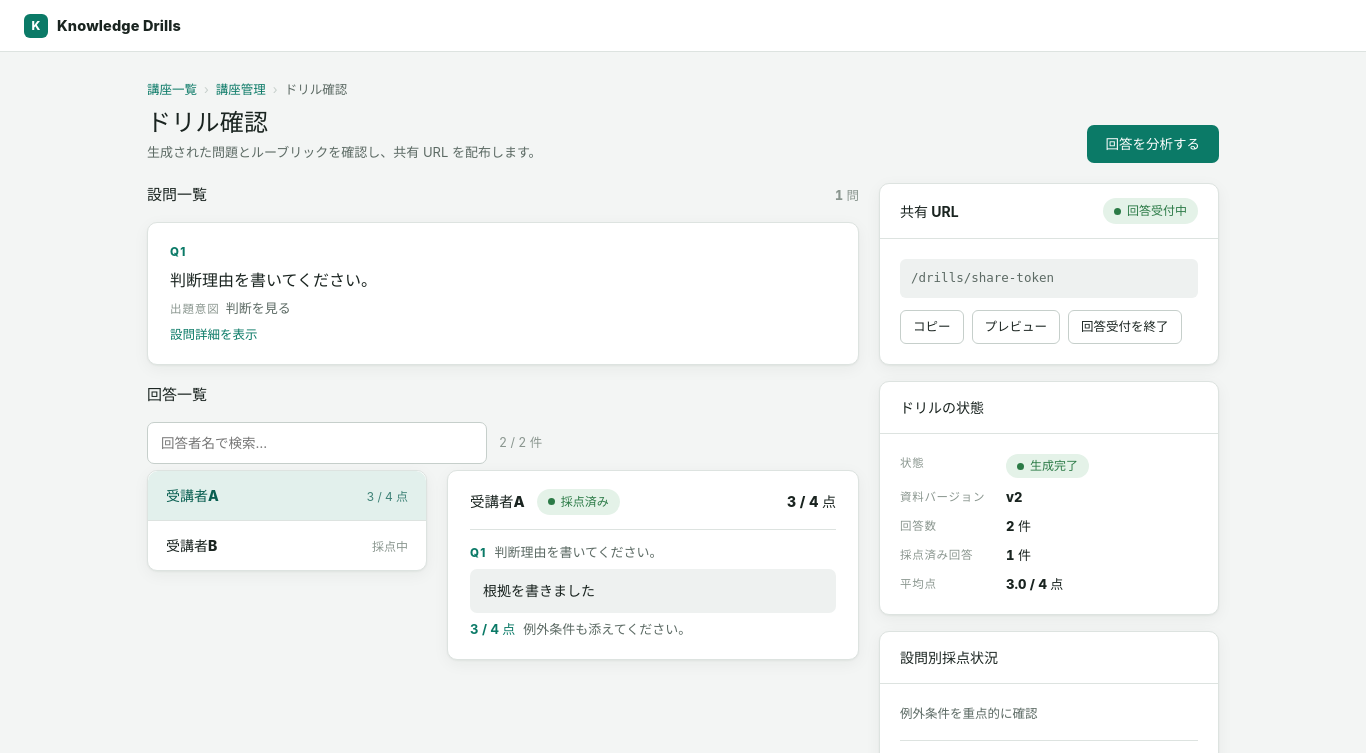
Test: DrillAdminPage › shows an error banner and stops polling when analysis fails
The width and height of the screenshot is (1366, 753).
Expected: the text "/drills/share-token" is shown, [900,259,1198,298]
Click the button "回答を分析する": (1153, 144) [1086,125,1219,163]
Wait 3000 ms
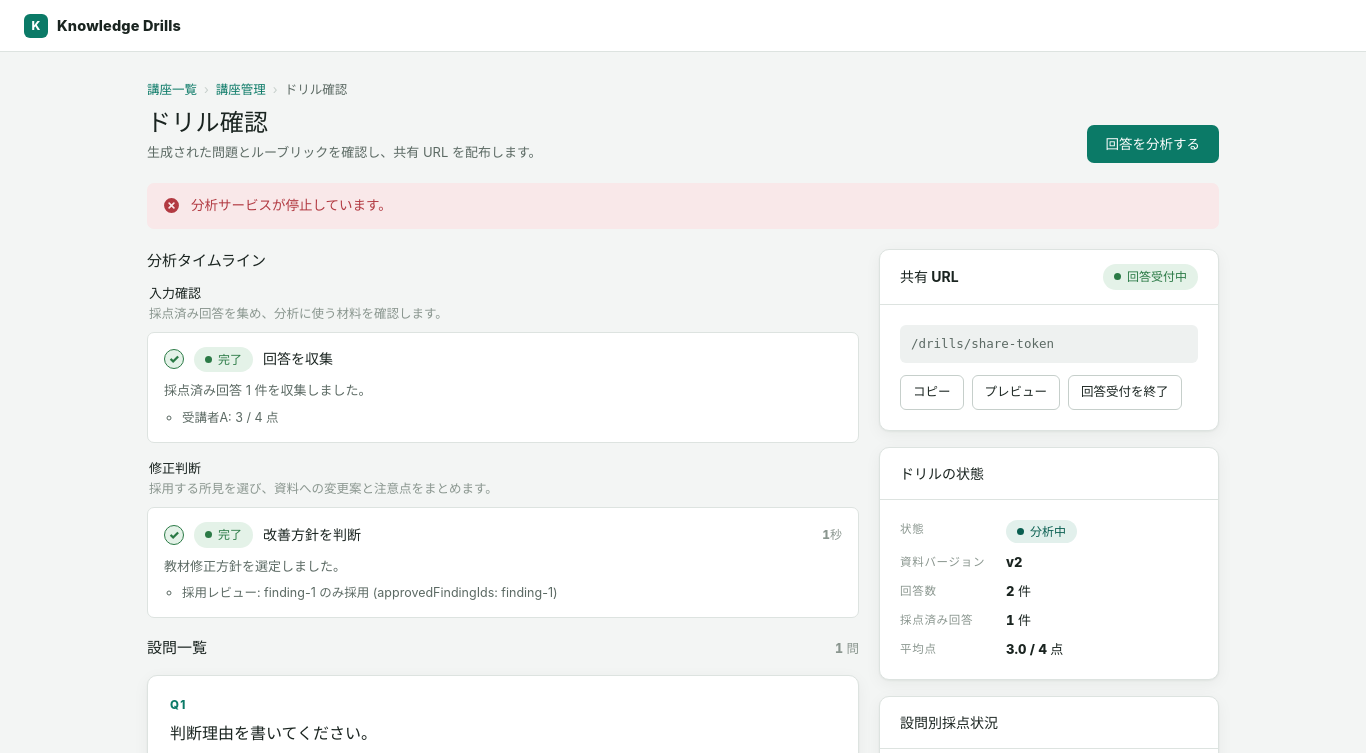
Expected: the heading "回答を収集" is shown, [263,349,333,370]
Expected: the text "分析サービスが停止しています。" is shown, [191,195,392,217]
